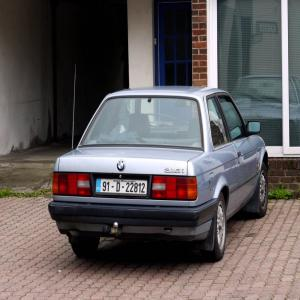Vehicle-registration-plate: (100, 183, 154, 203)
